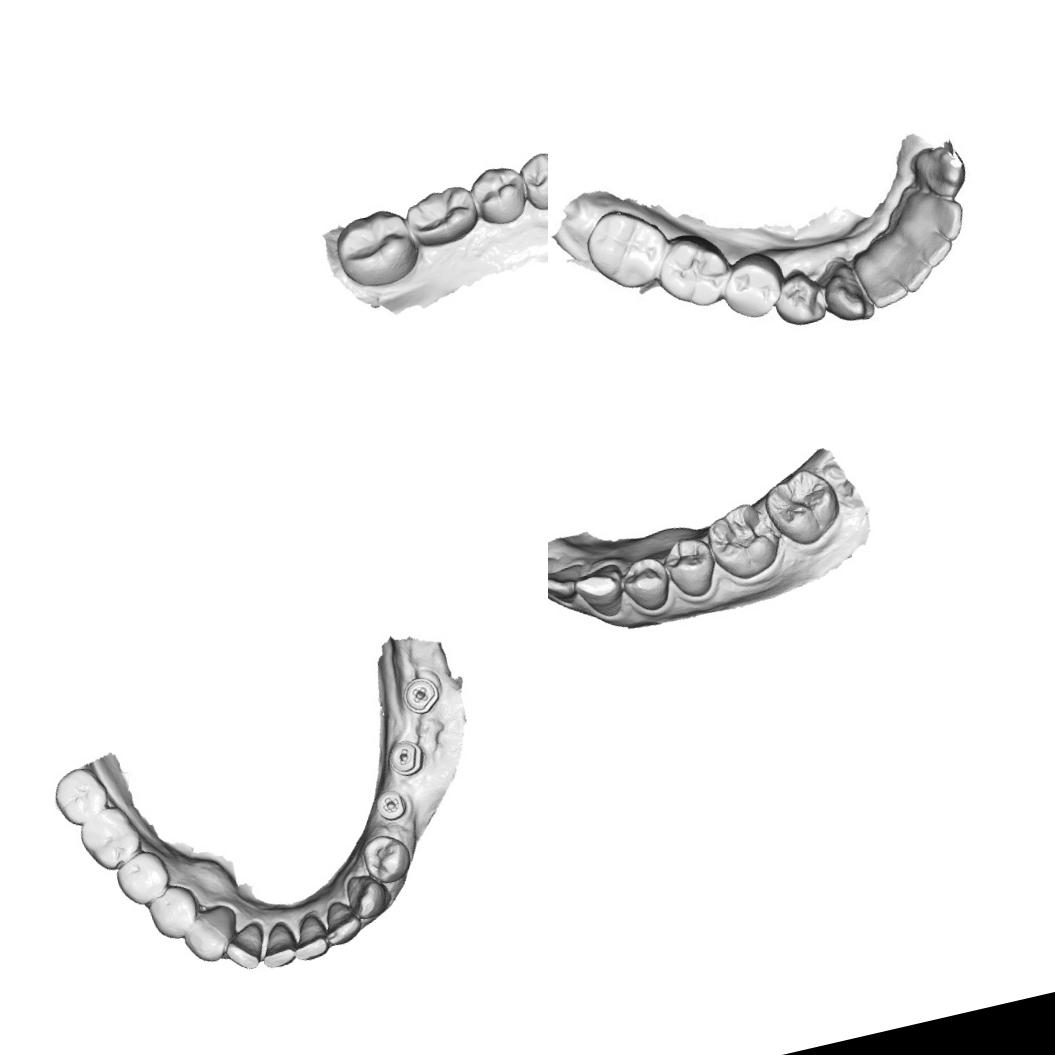canine: (901, 136, 976, 201), (177, 900, 245, 968), (568, 558, 632, 624), (824, 262, 877, 326), (343, 869, 393, 923)
implant_minus: (384, 736, 428, 780)
implant_plus: (398, 672, 444, 719), (372, 786, 409, 824)
incisor: (878, 224, 938, 294), (906, 213, 958, 269), (916, 188, 967, 241), (220, 920, 269, 974), (857, 252, 905, 306), (548, 559, 596, 612), (254, 920, 302, 971), (318, 897, 366, 948), (287, 912, 332, 964), (548, 546, 565, 594)
molar: (326, 200, 425, 296), (758, 461, 848, 554), (582, 204, 669, 298), (700, 495, 788, 586), (399, 178, 486, 254), (654, 232, 732, 316), (74, 800, 146, 875), (48, 761, 115, 831)
premolar: (467, 158, 536, 232), (716, 253, 784, 322), (659, 531, 722, 603), (111, 846, 175, 911), (767, 264, 828, 332), (616, 550, 677, 618), (144, 880, 203, 944), (358, 829, 416, 888), (515, 144, 548, 215)
